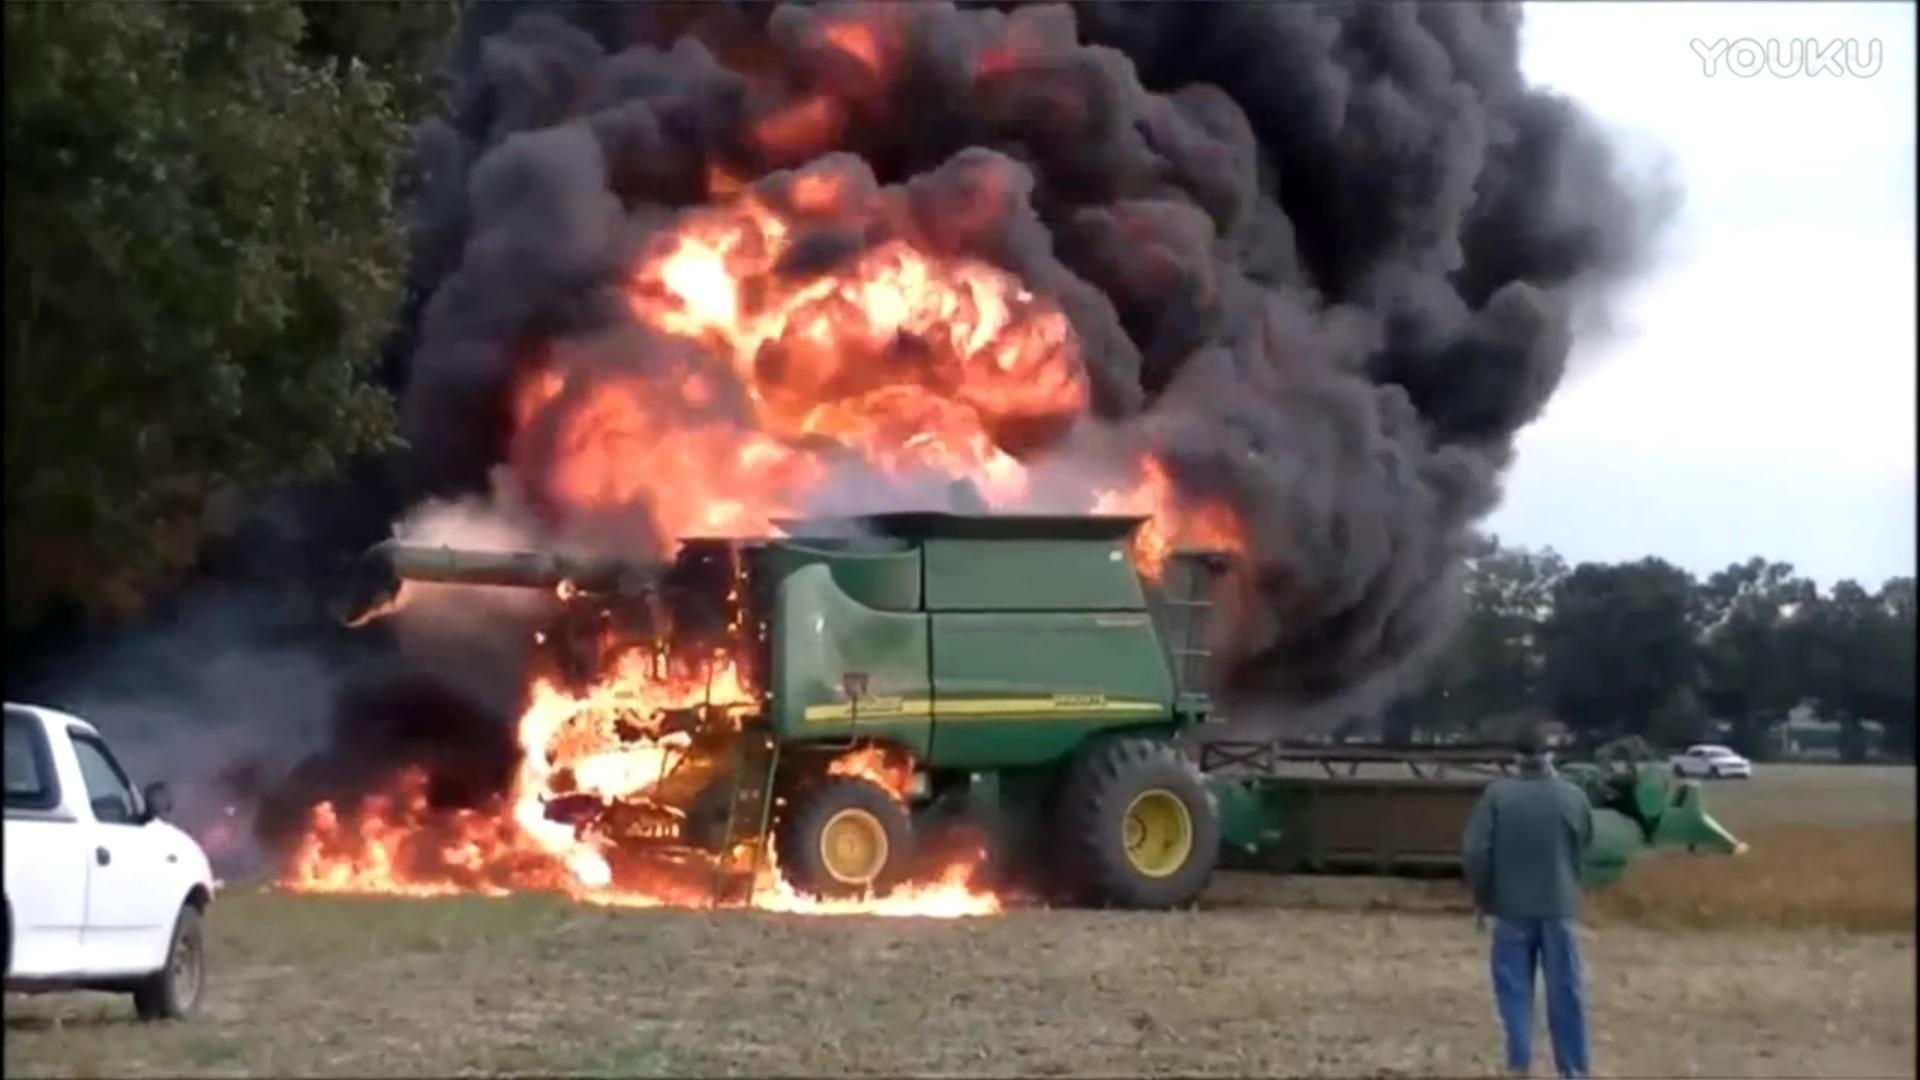fire: (286, 626, 1023, 924), (549, 183, 1069, 538), (1106, 458, 1240, 575)
